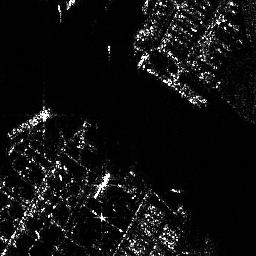ship: (5, 107, 56, 137)
